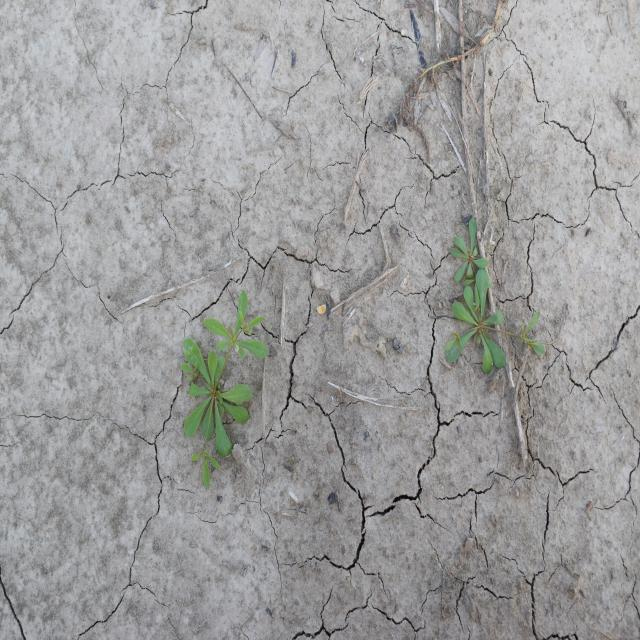Carpetweed: (178, 289, 270, 493), (444, 216, 546, 376)
